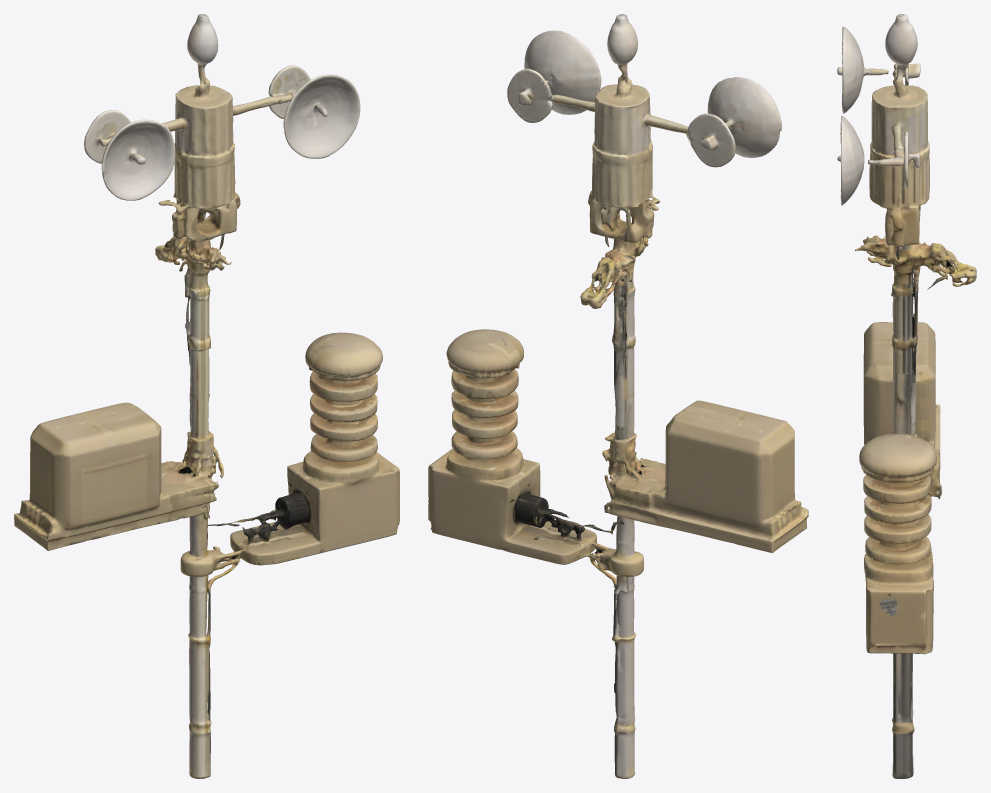
The model's file is Weather_Station_in_th_0624193936_texture.glb.
3 renders of one model, left to right at view 1: azimuth 30°, elevation 25°; view 2: azimuth 150°, elevation 25°; view 3: azimuth 270°, elevation 25°, orthographic.
Bounding box in the file's own units: 0.9749 × 2 × 0.3323.
Materials: 1 (1 with a texture image).
